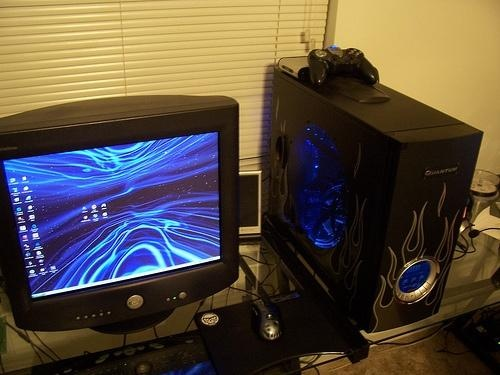tvmonitor: (1, 95, 240, 336)
